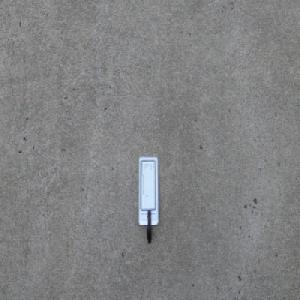LuggageTag: (137, 155, 159, 244)
